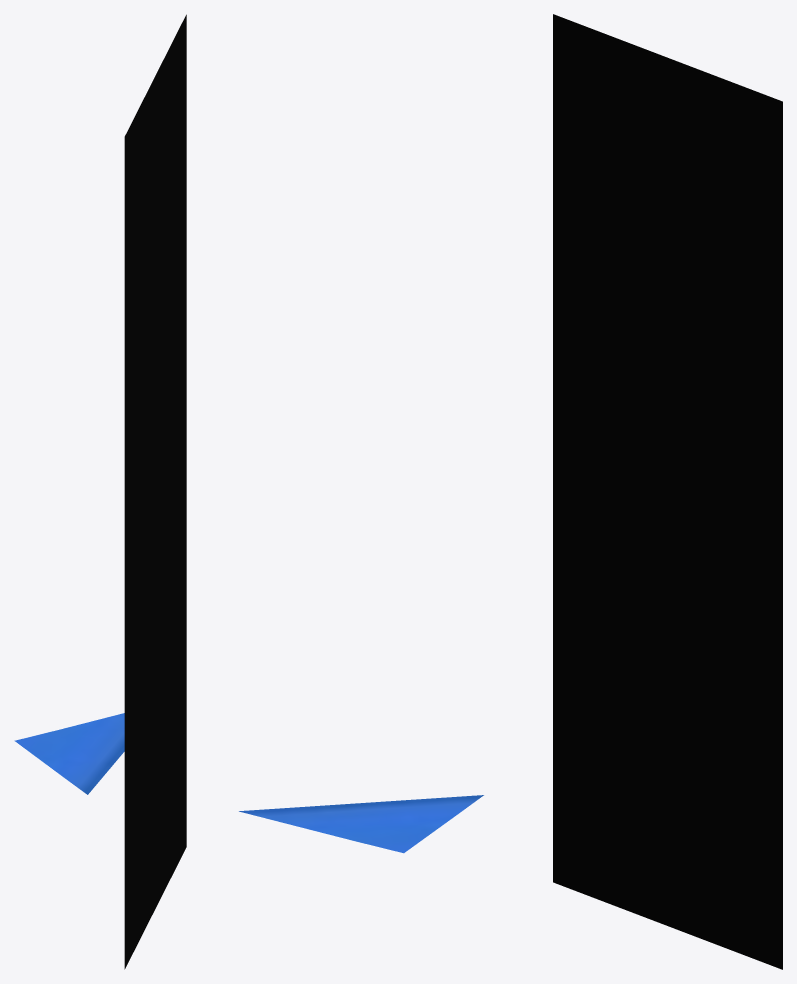
The picture shows the model from 3 angles, left to right: view 1: azimuth 30°, elevation 25°; view 2: azimuth 150°, elevation 25°; view 3: azimuth 270°, elevation 25°; orthographic projection. The views are drawn at different scales.
Bounding box in the file's own units: 1.95 × 9 × 2.16.
2 materials, 2 textured.
